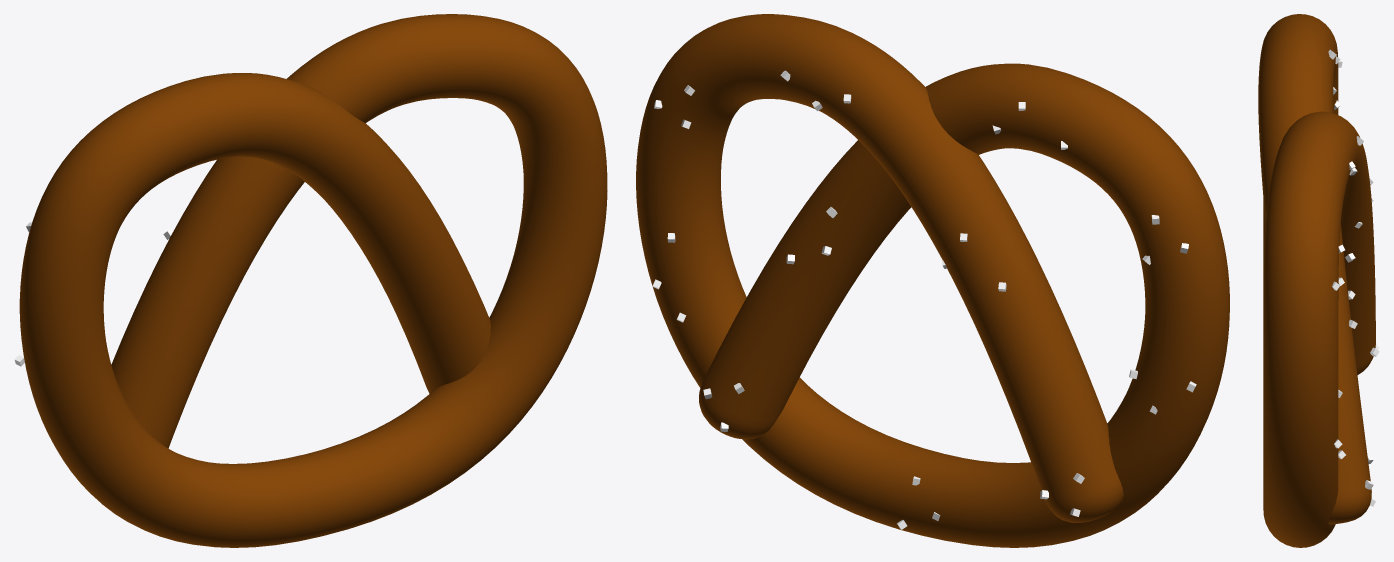
The model's file is pretzel-flat.dae.
3 renders of one model, left to right at view 1: azimuth 30°, elevation 25°; view 2: azimuth 150°, elevation 25°; view 3: azimuth 270°, elevation 25°, orthographic. The views are drawn at different scales.
Visible parts, largest first — view 1: afdfc79d-7b52-4f39-9c4c-90170c1b2244; view 2: afdfc79d-7b52-4f39-9c4c-90170c1b2244; view 3: afdfc79d-7b52-4f39-9c4c-90170c1b2244.
Boxes of the visible parts, <box> form: afdfc79d-7b52-4f39-9c4c-90170c1b2244: <box>19,14,607,547</box>; afdfc79d-7b52-4f39-9c4c-90170c1b2244: <box>636,14,1229,547</box>; afdfc79d-7b52-4f39-9c4c-90170c1b2244: <box>1258,14,1375,547</box>.
Size of the model in its own units: 47.53 by 9.7 by 37.87.
